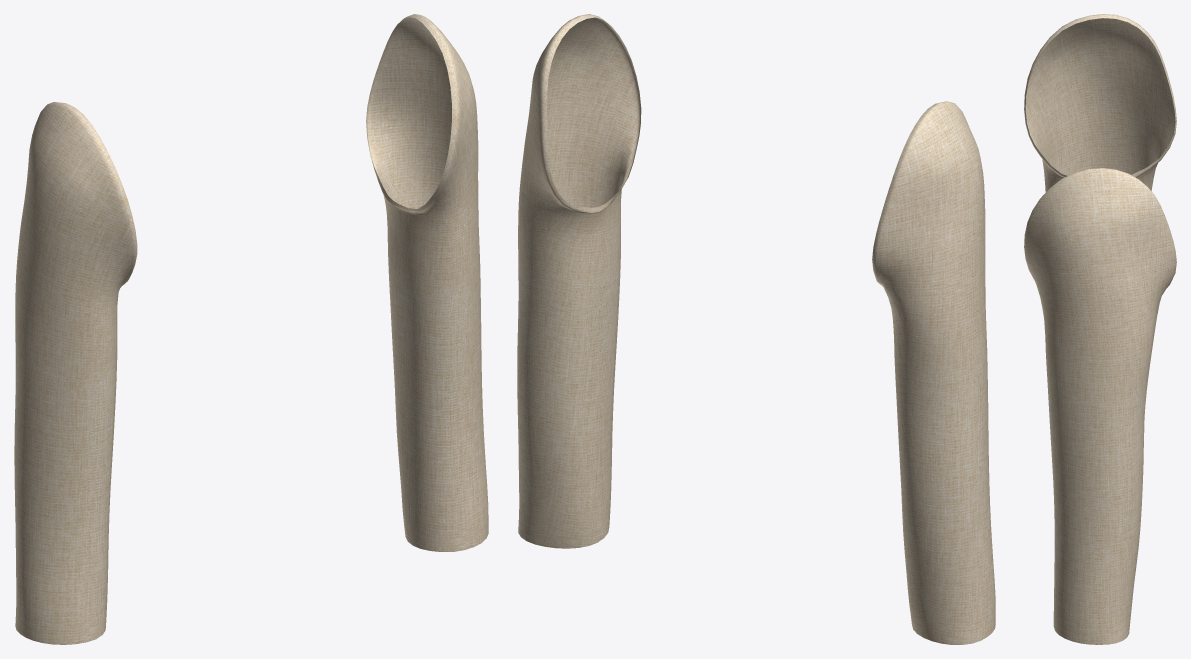
The model's file is Structured.glb.
3 renders of one model, left to right at view 1: azimuth 30°, elevation 25°; view 2: azimuth 150°, elevation 25°; view 3: azimuth 270°, elevation 25°, orthographic. The views are drawn at different scales.
Visible parts, largest first — view 1: Structured; view 2: Structured; view 3: Structured.
Part boxes in pixels (x1,y1,x2,y2): Structured: [14, 14, 488, 644]; Structured: [517, 14, 995, 644]; Structured: [1024, 14, 1176, 644].
Size of the model in its own units: 0.0771 by 0.0825 by 0.0251.
Materials: 1 (1 with a texture image).
